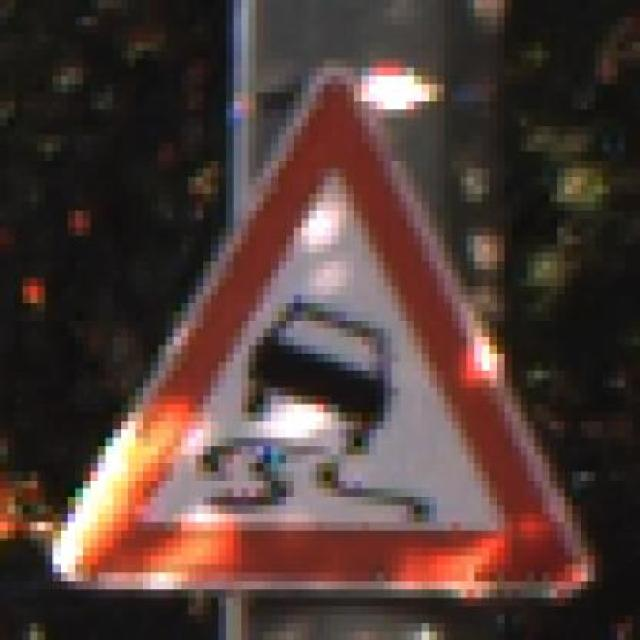Slippery Road Ahead: (52, 59, 596, 598)
